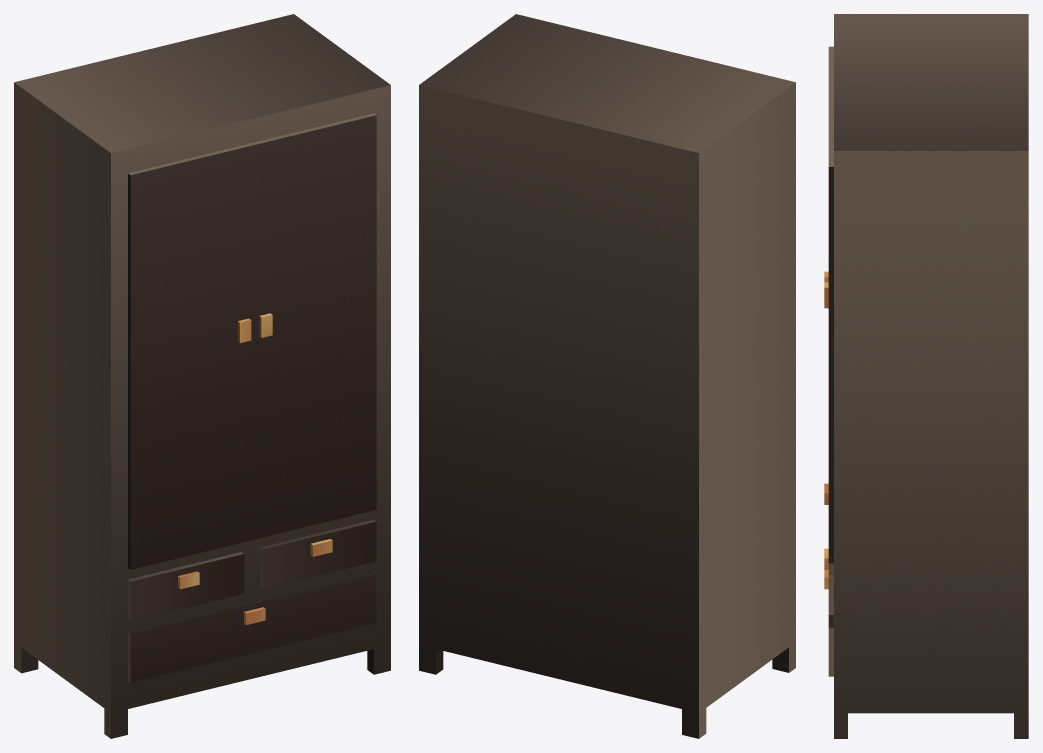
The model's file is wardrobe.fbx.
The picture shows the model from 3 angles, left to right: view 1: azimuth 30°, elevation 25°; view 2: azimuth 150°, elevation 25°; view 3: azimuth 270°, elevation 25°; orthographic projection.
Visible parts, largest first — view 1: Box001; view 2: Box001; view 3: Box001.
Boxes of the visible parts, x1,y1,x2,y2 form: Box001: (14,14,390,738); Box001: (419,14,795,738); Box001: (828,14,1028,738).
Size of the model in its own units: 100 by 200 by 63.05.
